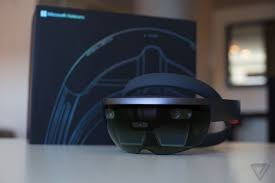hololens: (103, 80, 243, 157)
